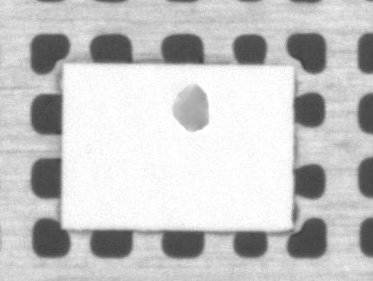DIE_INK: (222, 60, 283, 102)
